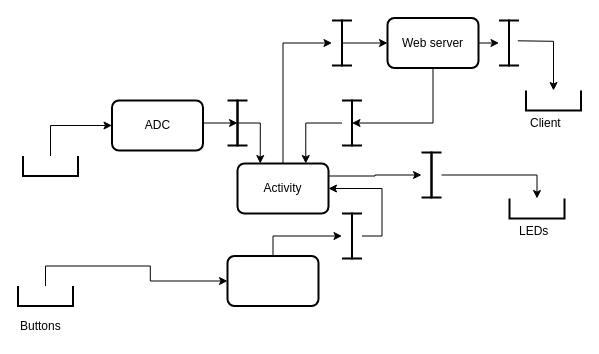
The diagram is 599 pixels wide and 354 high, and some of its shapes have lost their labels. Here are the shapes that lost their labels. From the top down, the centre of each, then its label:
At [50,165]: "Oximeters".
At [272,280]: "Port Interrupts".
